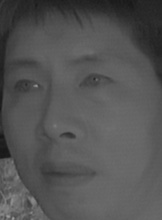eye: (79, 70, 115, 93), (11, 76, 48, 98)
mouth: (38, 157, 97, 189)
